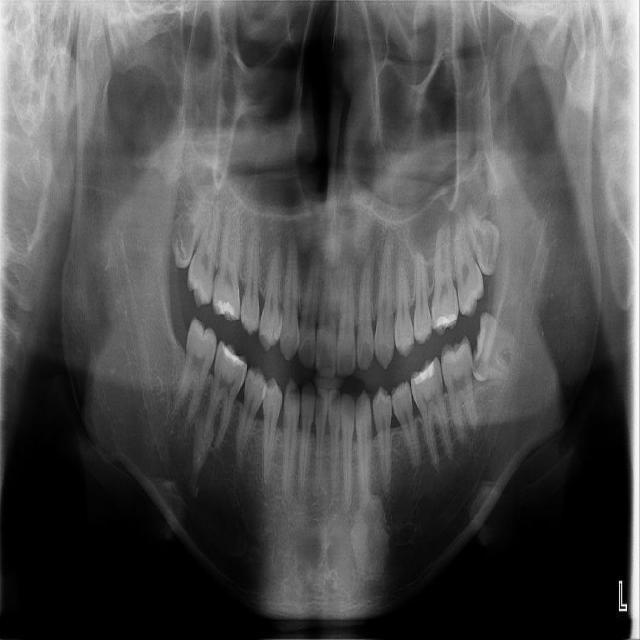3M ESPE Implant: (161, 184, 213, 271)
52: (209, 339, 251, 400), (407, 357, 446, 412), (212, 270, 241, 321), (431, 284, 459, 335), (170, 214, 193, 259)
73: (604, 592, 614, 606)
BioHorizons Implant: (448, 206, 487, 319)
BioLife Implant: (464, 200, 506, 278)
Biomet 3i Implant: (469, 311, 517, 385)
Blue Sky Bio Implant: (438, 335, 480, 441)
Caries: (184, 198, 223, 309)
Implant: (165, 317, 222, 430)
